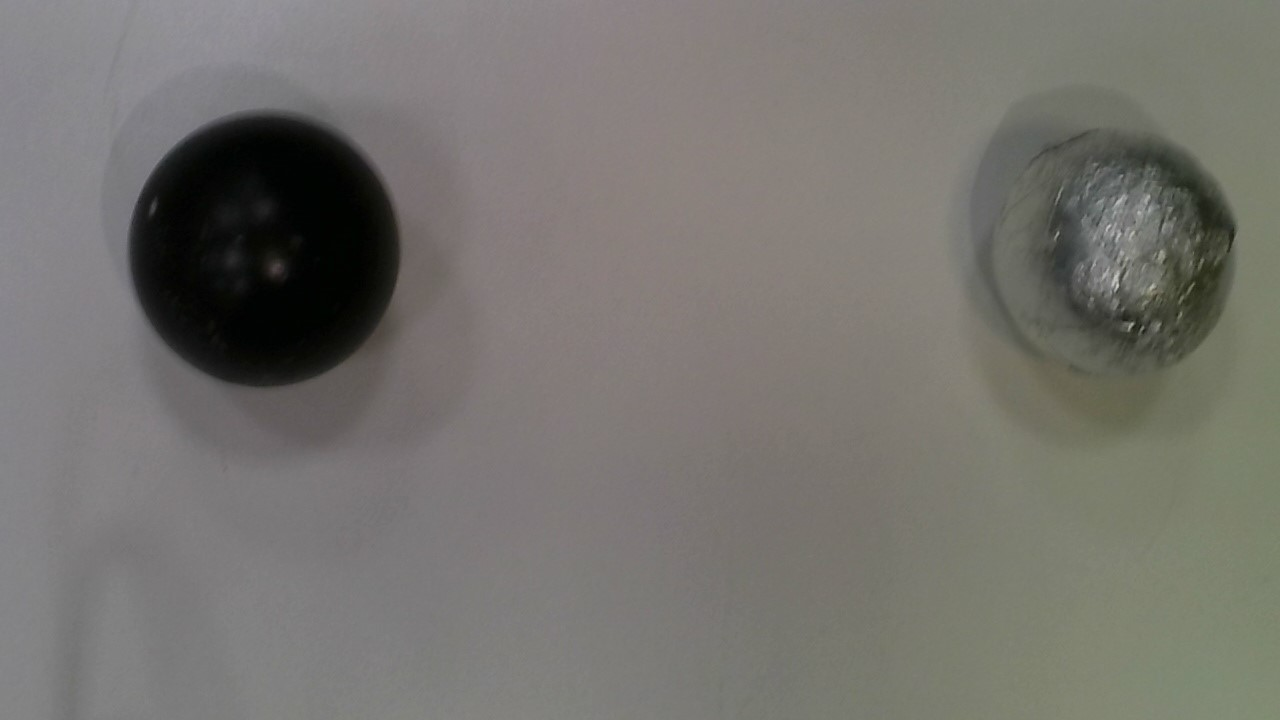black_ball: (112, 104, 412, 395)
silver_ball: (977, 118, 1241, 381)
